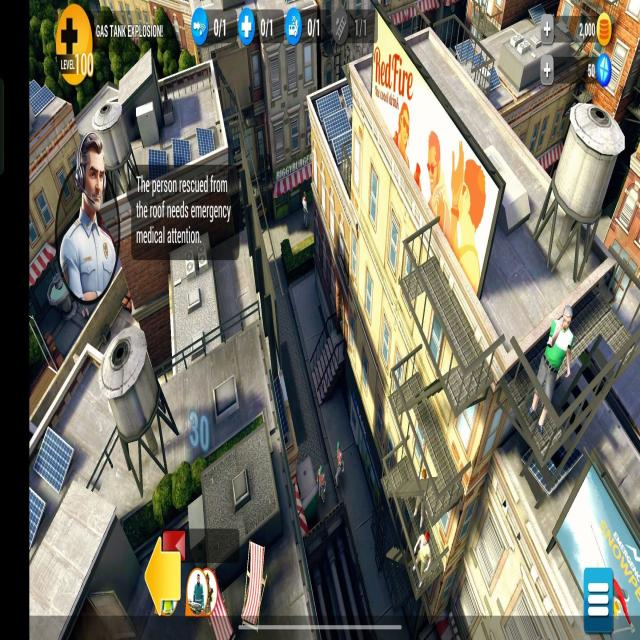billboard: (371, 7, 500, 297)
